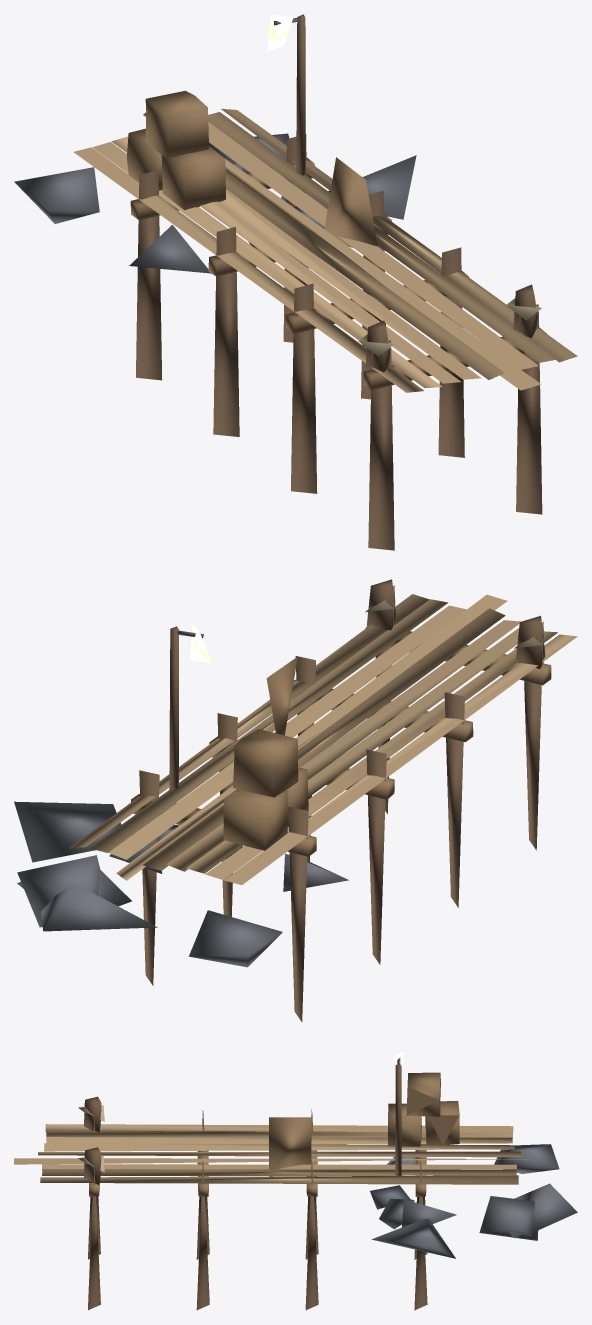
Rendered from poi_grotto_landing_lods.346bcf55.glb.
3 views of the same model, one above another, from view 1: azimuth 30°, elevation 25°; view 2: azimuth 150°, elevation 25°; view 3: azimuth 270°, elevation 25° (orthographic). The views are drawn at different scales.
Visible parts, largest first — view 1: poi_grotto_landing_far; view 2: poi_grotto_landing_far; view 3: poi_grotto_landing_far.
Boxes of the visible parts, box(x1,y1,x2,y2) form: poi_grotto_landing_far: box(14, 14, 577, 550); poi_grotto_landing_far: box(14, 579, 577, 1022); poi_grotto_landing_far: box(14, 1051, 577, 1310).
Size of what is drawn, in the model's own units: 4.73 by 4.93 by 10.36.
